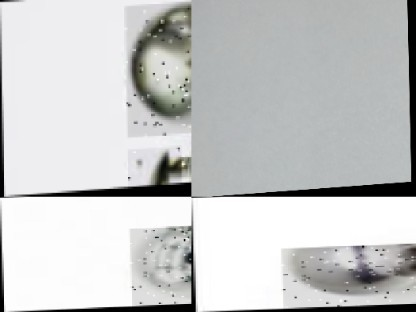ironball: (124, 2, 191, 138), (280, 244, 415, 309), (129, 226, 191, 307), (126, 146, 181, 189)
